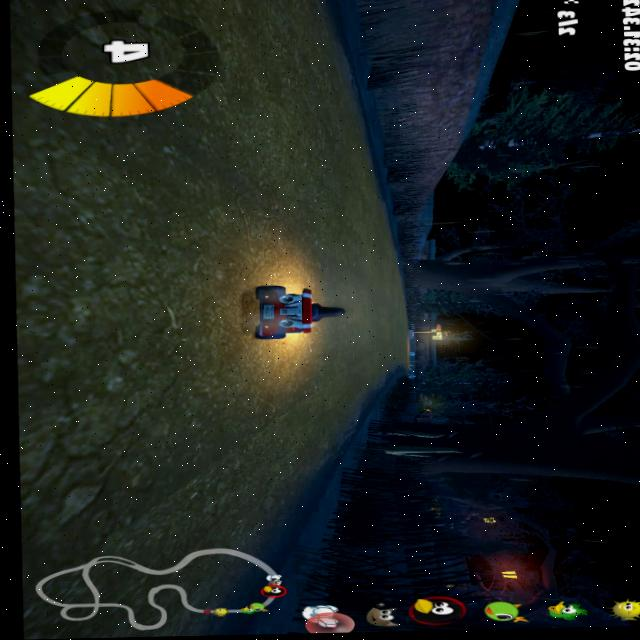player_kart: (231, 282, 345, 341)
track: (12, 0, 243, 640), (223, 0, 342, 212), (235, 340, 359, 437), (240, 211, 396, 284), (329, 82, 376, 209), (243, 437, 313, 515), (346, 310, 418, 379), (242, 513, 279, 563), (344, 282, 405, 308), (355, 380, 382, 404), (312, 435, 339, 453)
